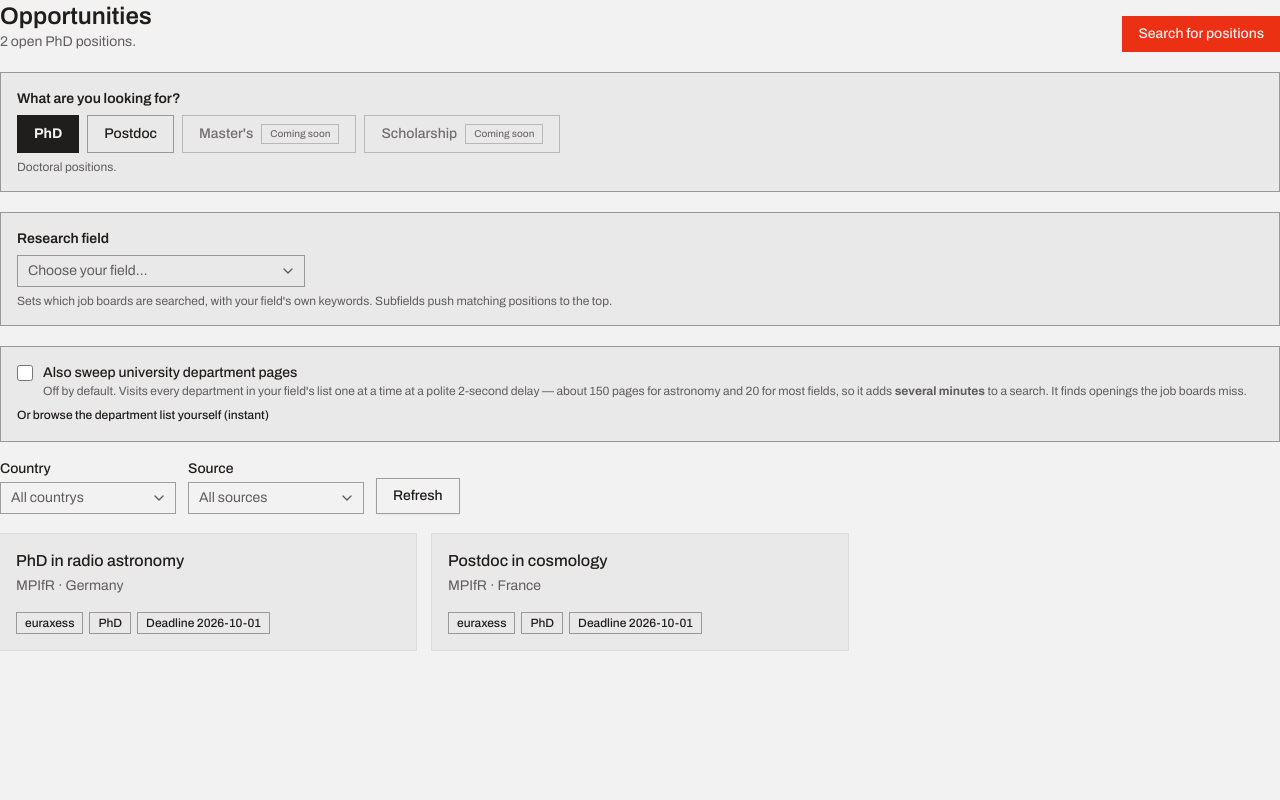
Test case: OpportunitiesPage › streams per-source progress in the run dialog (M3)
The image size is (1280, 800).
Expected: the link "PhD in radio astronomy" is shown, 16,552 -> 184,569
Click the button "Search for positions": (1201,34) 1122,16 -> 1279,52
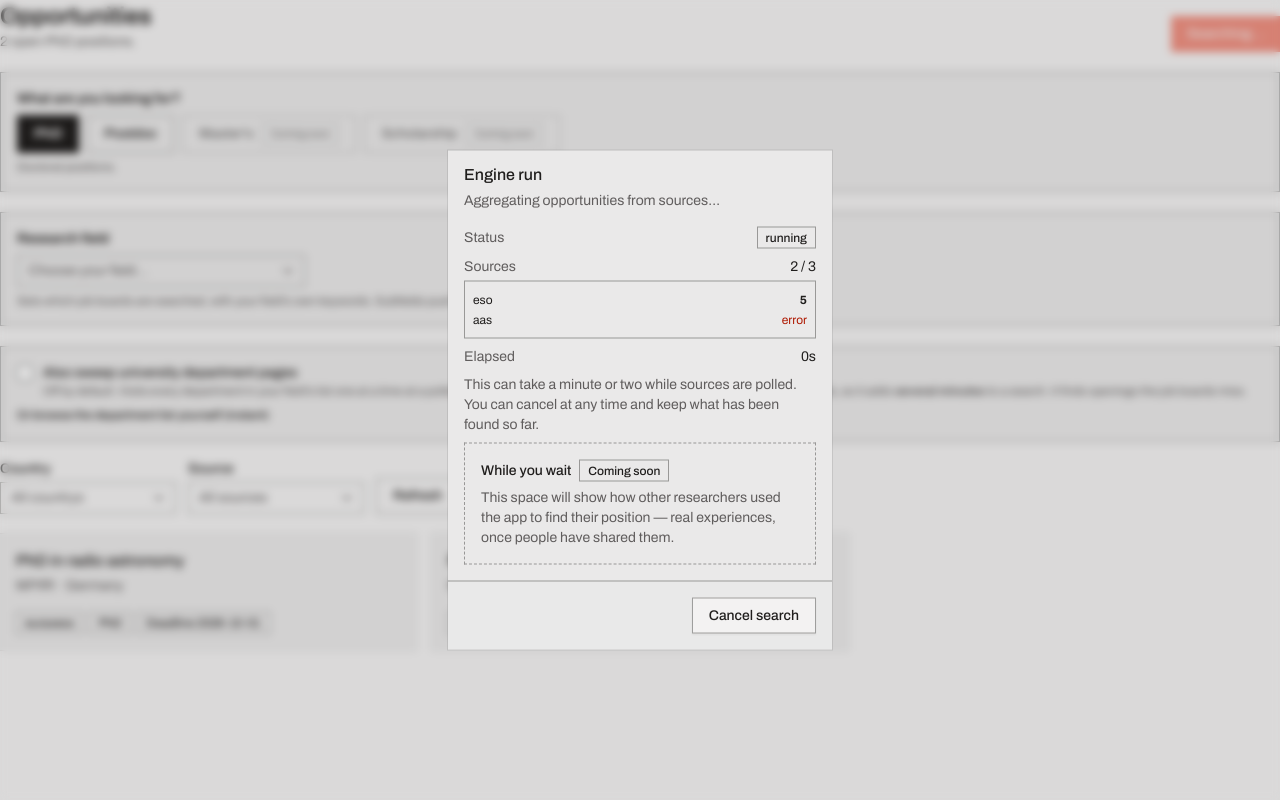
Expected: the text with test id "run-progress-count" reads "2 / 3", 790,256 -> 816,276
Expected: the text "eso" is shown, 473,292 -> 492,308
Expected: the text "aas" is shown, 473,312 -> 492,328
